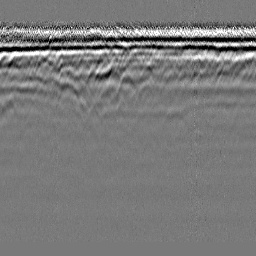cavity: (113, 70, 140, 102)
